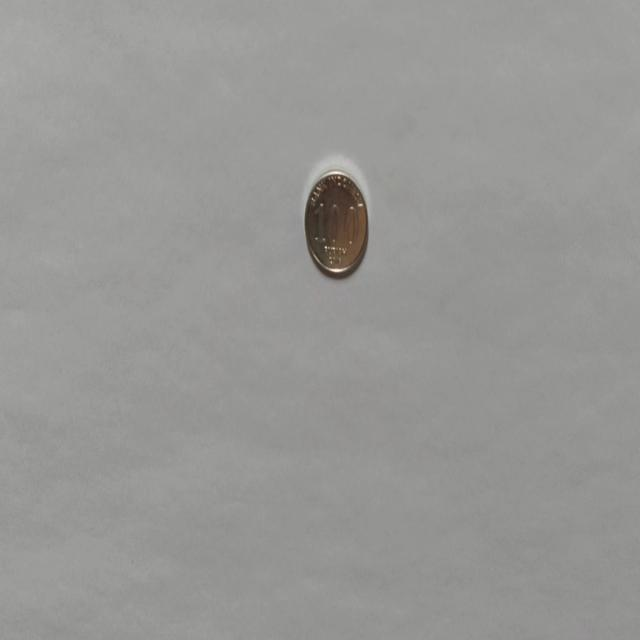seratus rupiah: (304, 167, 368, 278)
